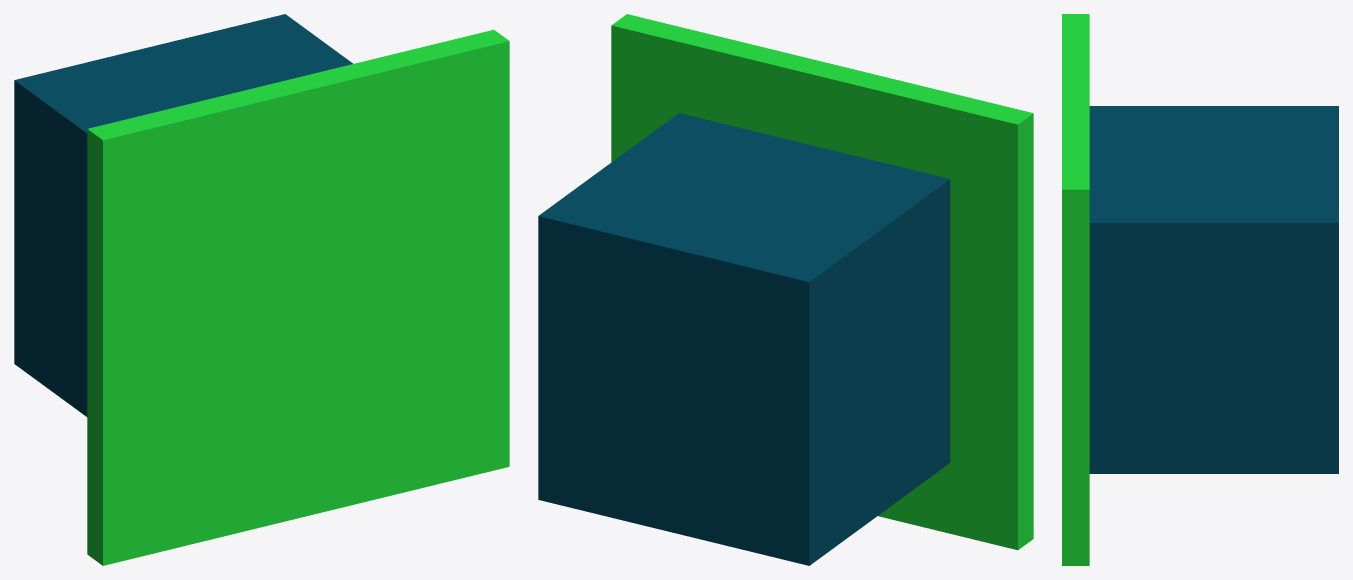
Rendered from F2InteractablePlatform2.fbx.
3 views of the same model, side by side, from view 1: azimuth 30°, elevation 25°; view 2: azimuth 150°, elevation 25°; view 3: azimuth 270°, elevation 25° (orthographic). The views are drawn at different scales.
Visible parts, largest first — view 1: VinesSideBlock, Platform; view 2: Platform, VinesSideBlock; view 3: Platform, VinesSideBlock.
Boxes of the visible parts, x1,y1,x2,y2 form: VinesSideBlock: [87, 29, 509, 565]; Platform: [14, 14, 352, 416]; Platform: [538, 113, 950, 565]; VinesSideBlock: [611, 14, 1033, 550]; Platform: [1089, 106, 1338, 473]; VinesSideBlock: [1062, 14, 1089, 565].
Size of the model in its own units: 15 by 15 by 10.
